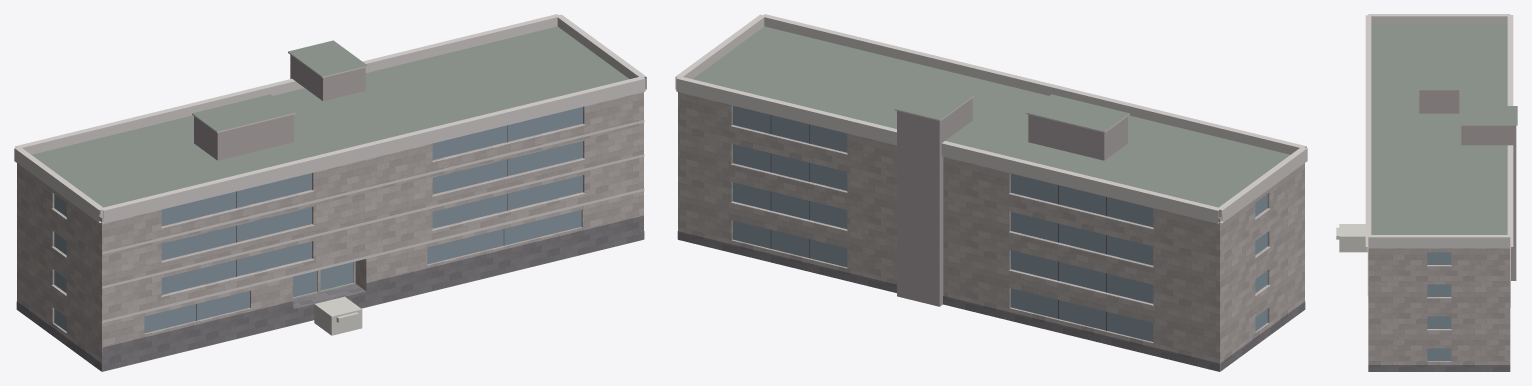
The picture shows the model from 3 angles, left to right: view 1: azimuth 30°, elevation 25°; view 2: azimuth 150°, elevation 25°; view 3: azimuth 270°, elevation 25°; orthographic projection. The views are drawn at different scales.
Visible parts, largest first — view 1: b152__wall, b152__roof, b152__trim, b152__glass, b152__base, b152__wall2, b152__entranceStair; view 2: b152__wall, b152__roof, b152__glass, b152__trim, b152__wall2, b152__base; view 3: b152__roof, b152__wall, b152__trim, b152__wall2, b152__glass, b152__base, b152__entranceStair.
Boxes of the visible parts, left/top/right/bottom form: b152__wall: left=17, top=92, right=643, bottom=371; b152__roof: left=31, top=26, right=643, bottom=371; b152__trim: left=14, top=14, right=646, bottom=322; b152__glass: left=54, top=107, right=582, bottom=333; b152__base: left=16, top=215, right=644, bottom=371; b152__wall2: left=194, top=55, right=365, bottom=160; b152__entranceStair: left=314, top=296, right=362, bottom=335; b152__wall: left=678, top=92, right=1304, bottom=371; b152__roof: left=692, top=26, right=1290, bottom=218; b152__glass: left=732, top=106, right=1267, bottom=341; b152__trim: left=675, top=14, right=1307, bottom=306; b152__wall2: left=897, top=98, right=1127, bottom=306; b152__base: left=677, top=231, right=1305, bottom=371; b152__roof: left=1371, top=24, right=1517, bottom=234; b152__wall: left=1368, top=248, right=1510, bottom=364; b152__trim: left=1365, top=14, right=1517, bottom=330; b152__wall2: left=1419, top=90, right=1516, bottom=280; b152__glass: left=1427, top=252, right=1451, bottom=360; b152__base: left=1368, top=365, right=1510, bottom=371; b152__entranceStair: left=1336, top=224, right=1367, bottom=252.
Size of the model in its own units: 53.95 by 17.97 by 18.53.
Materials: 9 (2 with a texture image).
